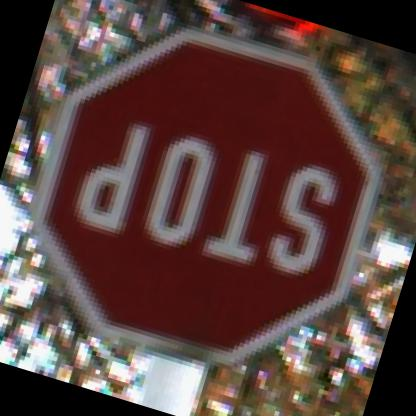stop: (0, 0, 409, 404)
